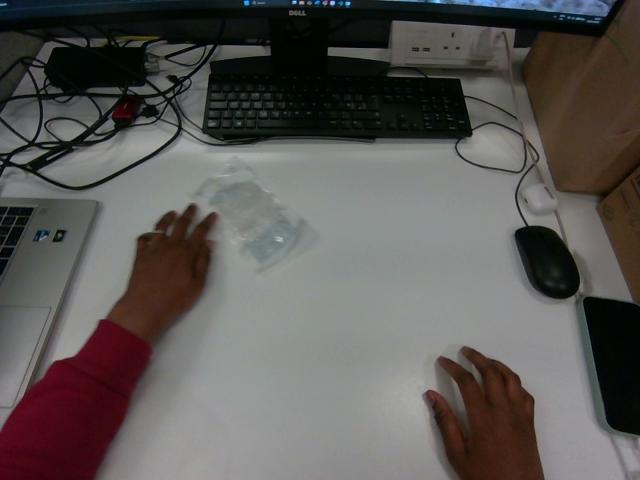gallipot: (193, 160, 302, 271)
